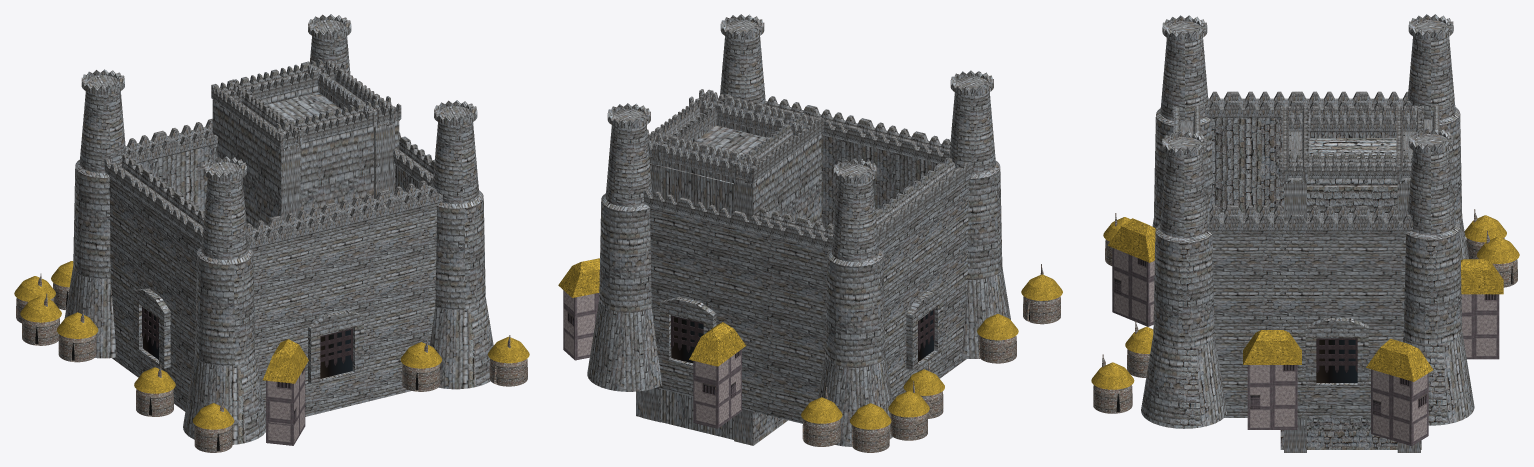
Rendered from Castle.obj.
3 renders of one model, left to right at view 1: azimuth 30°, elevation 25°; view 2: azimuth 150°, elevation 25°; view 3: azimuth 270°, elevation 25°, orthographic. The views are drawn at different scales.
Visible parts, largest first — view 1: Cube.017_Cube.020, Plane.003_Plane.004, Plane.002_Plane.003, Cube.018_Cube.024, Plane.000_Plane.002, Cube.005_Cube.028, Cube.004_Cube.029, Cube.003_Cube.006, Cube.002_Cube.023, Cube.007_Cube.010, Cube.006_Cube.030, Plane.004_Plane (+25 smaller); view 2: Cube.000_Cube.021, Plane.001, Plane.000_Plane.002, Cube.018_Cube.024, Plane.003_Plane.004, Cube.005_Cube.028, Cube.023_Cube.032, Cube.017_Cube.020, Cube.003_Cube.006, Cube.001_Cube.022, Plane.002_Plane.003, Plane.010_Plane.013 (+24 smaller); view 3: Cube.019_Cube.025, Plane.002_Plane.003, Plane.001, Cube.018_Cube.024, Plane.003_Plane.004, Plane.000_Plane.002, Cube.024_Cube.033, Cube.020_Cube.026, Plane.009_Plane.012, Cube.002_Cube.023, Cube.009_Cube.012, Plane.006_Plane.009 (+22 smaller).
Boxes of the visible parts, x1,y1,x2,y2 form: Cube.017_Cube.020: [250, 194, 439, 417]; Plane.003_Plane.004: [183, 156, 265, 444]; Plane.002_Plane.003: [430, 100, 493, 389]; Cube.018_Cube.024: [109, 170, 202, 411]; Plane.000_Plane.002: [64, 69, 126, 358]; Cube.005_Cube.028: [212, 99, 300, 228]; Cube.004_Cube.029: [300, 120, 399, 214]; Cube.003_Cube.006: [246, 178, 443, 249]; Cube.002_Cube.023: [104, 153, 204, 243]; Cube.007_Cube.010: [308, 310, 363, 384]; Cube.006_Cube.030: [268, 96, 401, 149]; Plane.004_Plane: [266, 367, 305, 445]; Cube.000_Cube.021: [648, 206, 829, 423]; Plane.001: [587, 103, 661, 391]; Plane.000_Plane.002: [818, 158, 892, 446]; Cube.018_Cube.024: [878, 171, 969, 400]; Plane.003_Plane.004: [949, 70, 1010, 358]; Cube.005_Cube.028: [734, 133, 821, 445]; Cube.023_Cube.032: [636, 152, 733, 439]; Cube.017_Cube.020: [821, 126, 943, 228]; Cube.003_Cube.006: [763, 96, 950, 163]; Cube.001_Cube.022: [643, 189, 833, 250]; Plane.002_Plane.003: [720, 14, 765, 107]; Plane.010_Plane.013: [693, 349, 741, 428]; Cube.019_Cube.025: [1208, 221, 1409, 417]; Plane.002_Plane.003: [1141, 131, 1227, 428]; Plane.001: [1403, 128, 1474, 425]; Cube.018_Cube.024: [1208, 107, 1402, 212]; Plane.003_Plane.004: [1152, 15, 1213, 228]; Plane.000_Plane.002: [1407, 14, 1468, 259]; Cube.024_Cube.033: [1280, 168, 1421, 449]; Cube.020_Cube.026: [1206, 205, 1413, 231]; Plane.009_Plane.012: [1371, 369, 1428, 445]; Cube.002_Cube.023: [1204, 91, 1411, 117]; Cube.009_Cube.012: [1305, 318, 1368, 385]; Plane.006_Plane.009: [1247, 365, 1297, 429].
Bounding box in the file's own units: 0.8655 × 0.6659 × 0.8157.
Materials: 7 (7 with a texture image).
